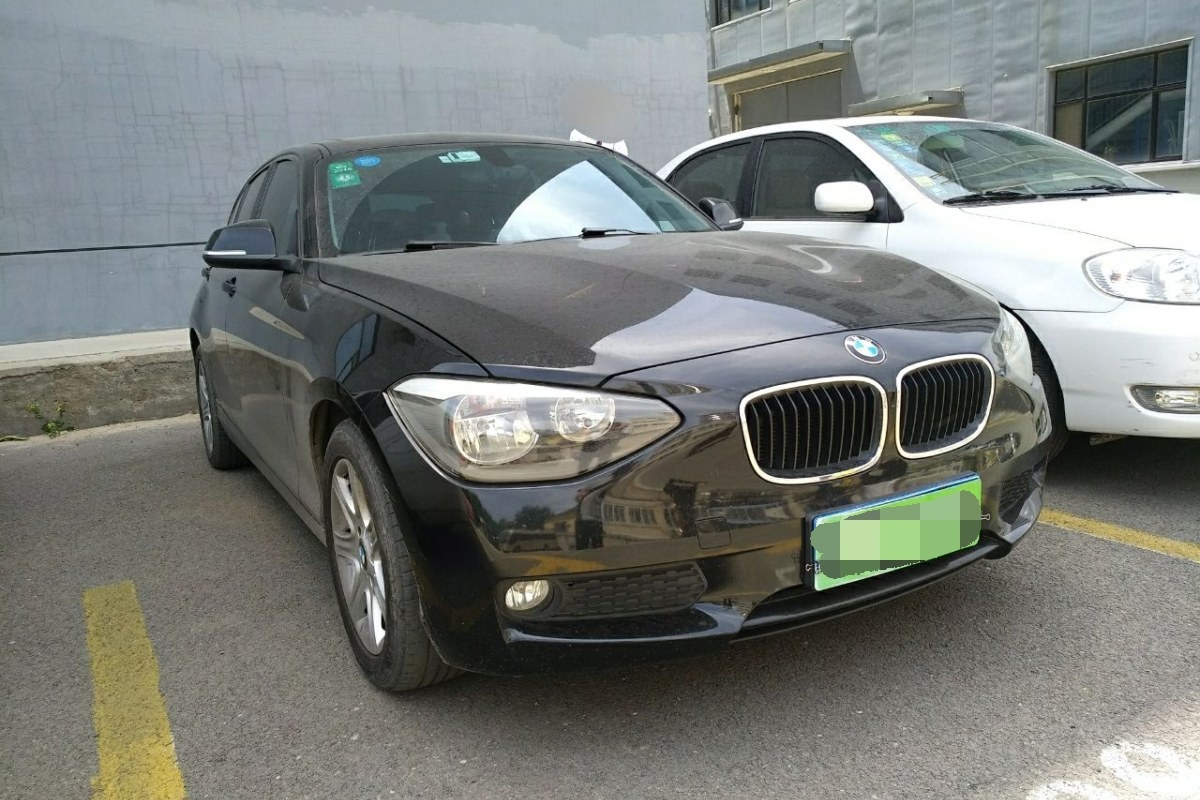family sedan: (150, 105, 1045, 657)
